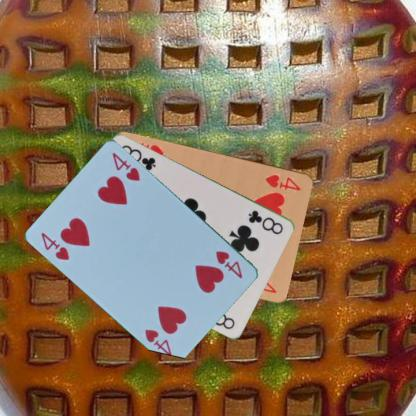4h: (38, 229, 71, 262), (213, 248, 245, 280), (263, 172, 304, 192)
8c: (245, 207, 285, 236)
